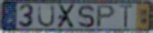3: (18, 3, 36, 29)
P: (95, 4, 117, 29)
S: (77, 4, 96, 29)
T: (118, 4, 135, 30)
U: (37, 4, 56, 29)
X: (56, 4, 77, 29)
